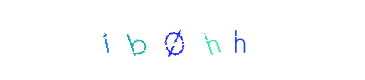0: (142, 0, 222, 80)
B: (127, 0, 207, 80)
H: (150, 0, 230, 80), (155, 0, 235, 80)
I: (124, 0, 204, 80)
